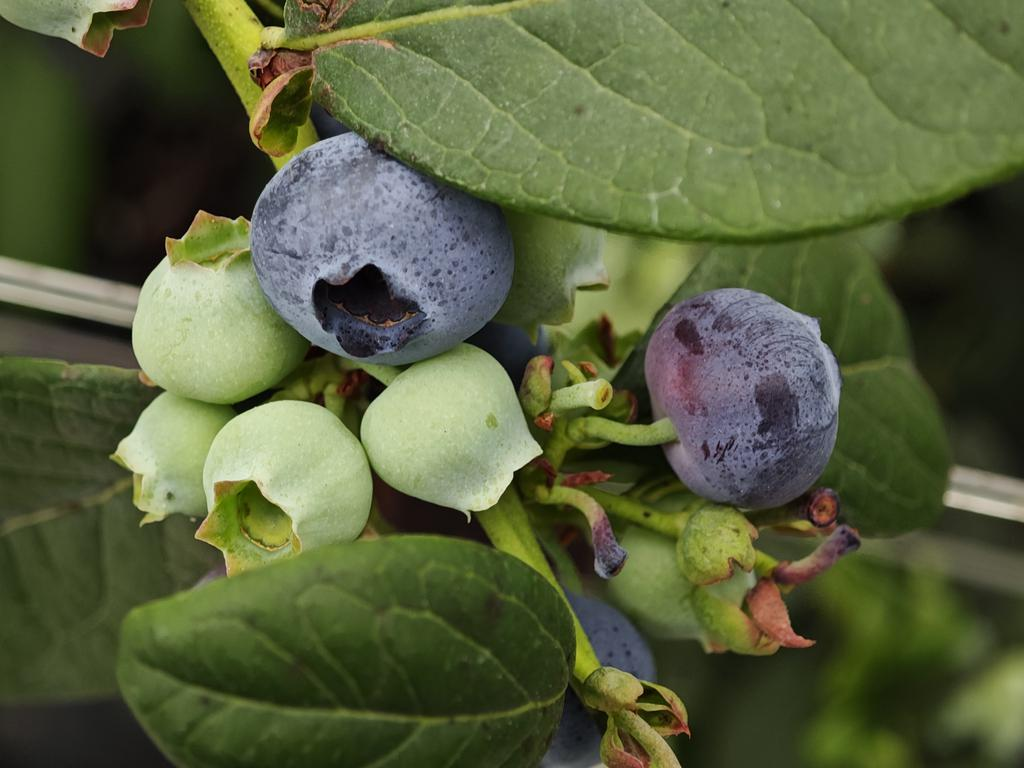RipeBlueBerry: (253, 137, 512, 364)
Semi-RipeBlueBerry: (646, 288, 849, 506)
UnripeBlueBerry: (362, 347, 541, 509), (134, 214, 292, 397), (206, 396, 369, 570)
